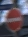No entry: (5, 5, 23, 32)
